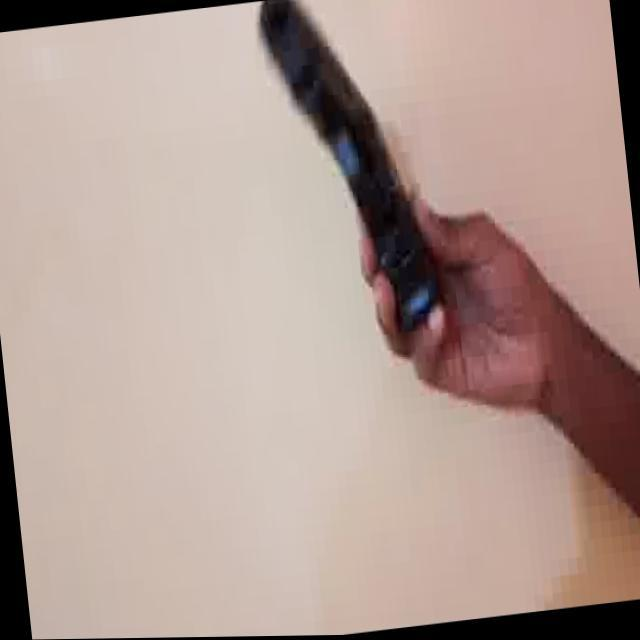weapon: (253, 0, 460, 355)
